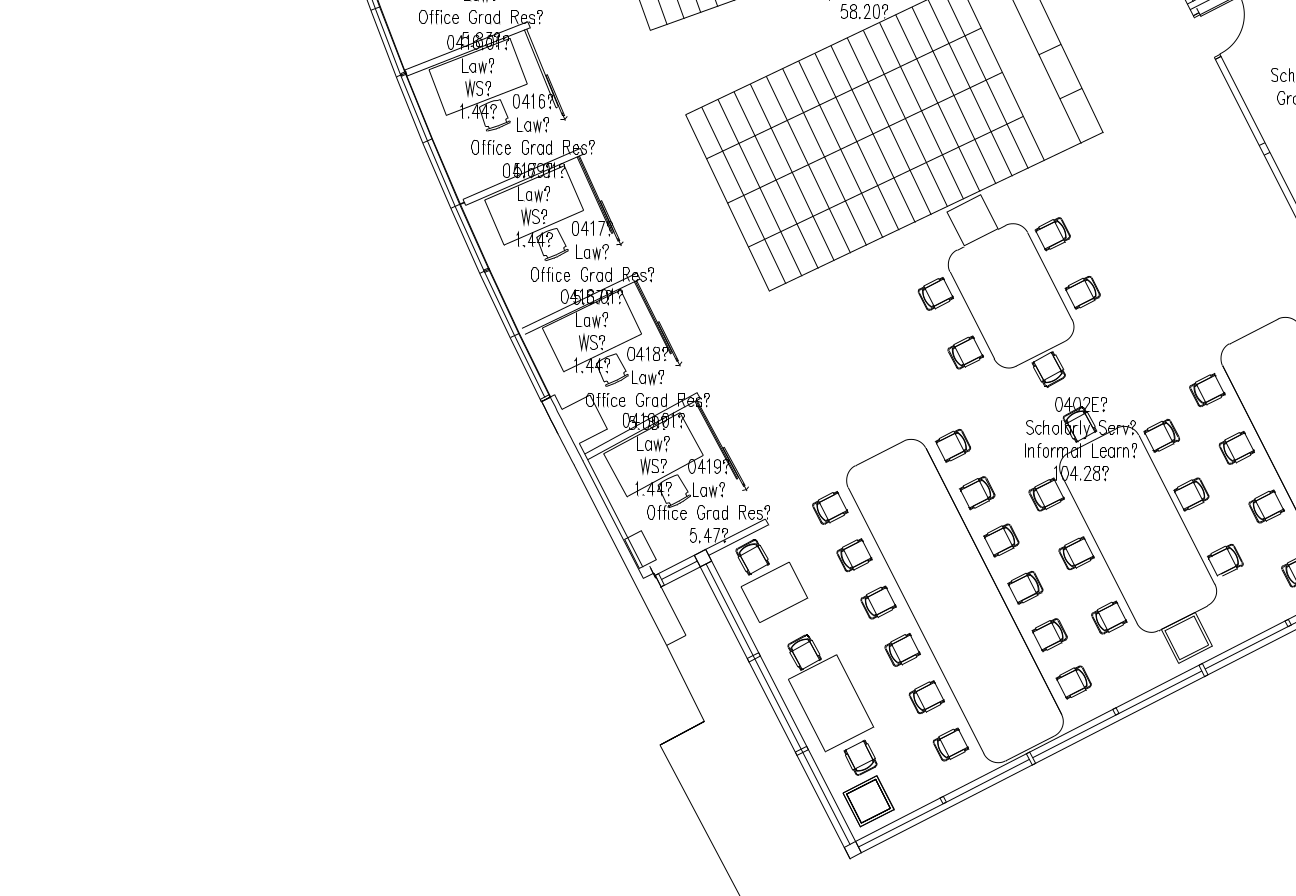door: (1187, 1, 1260, 61)
